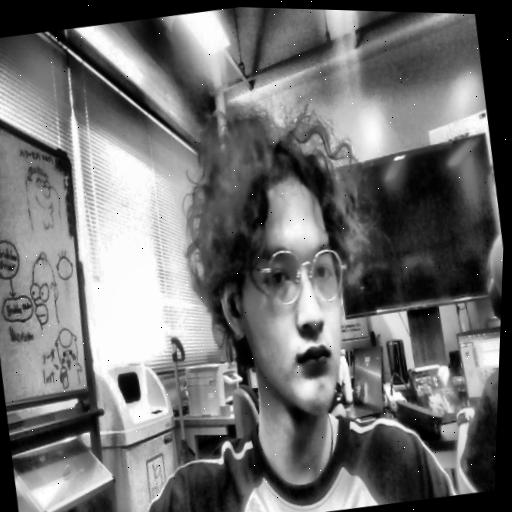Daifuku: (155, 77, 380, 432)
